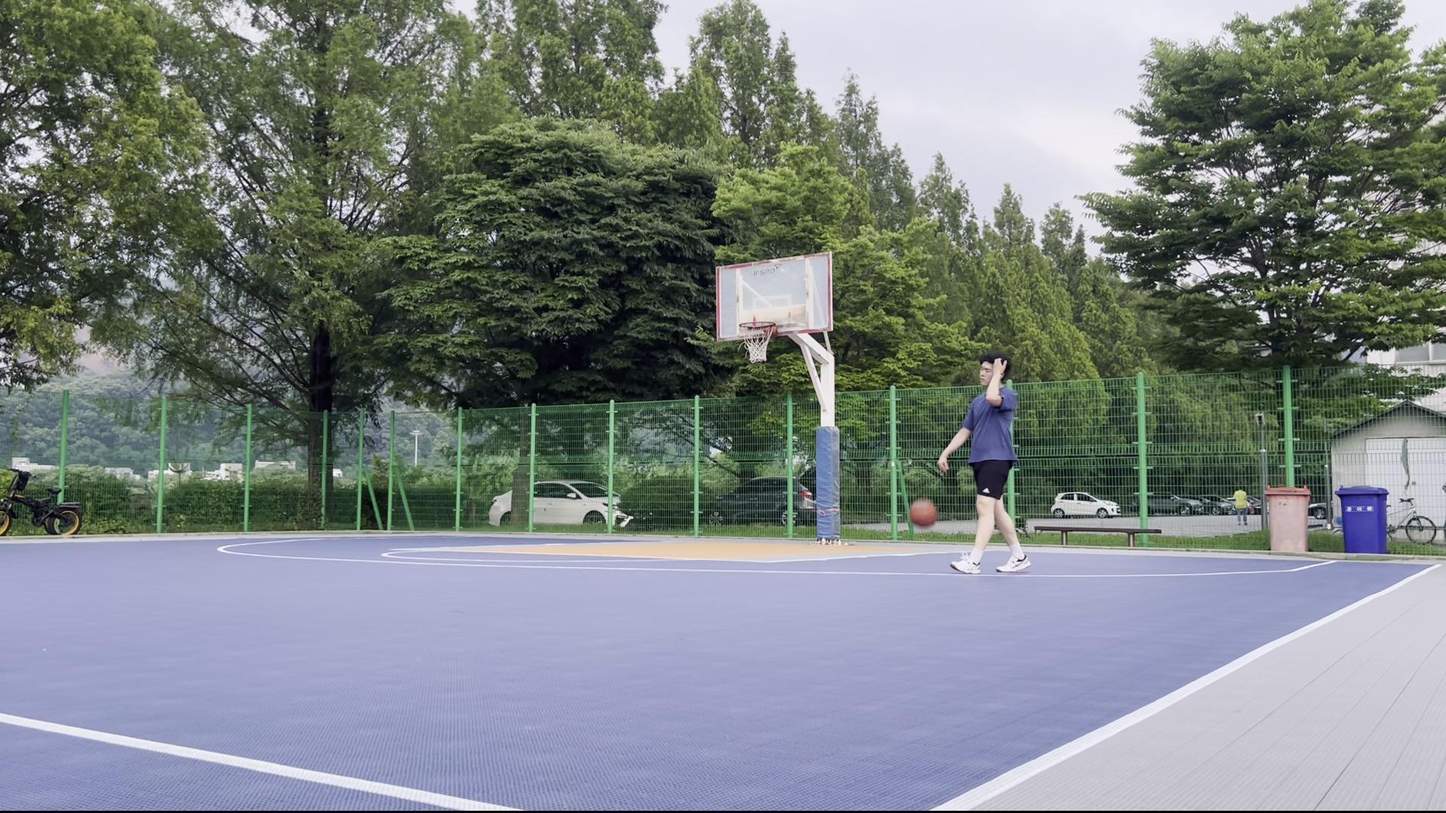ball: (909, 498, 938, 529)
human: (935, 351, 1032, 576)
rim: (738, 320, 776, 365)
